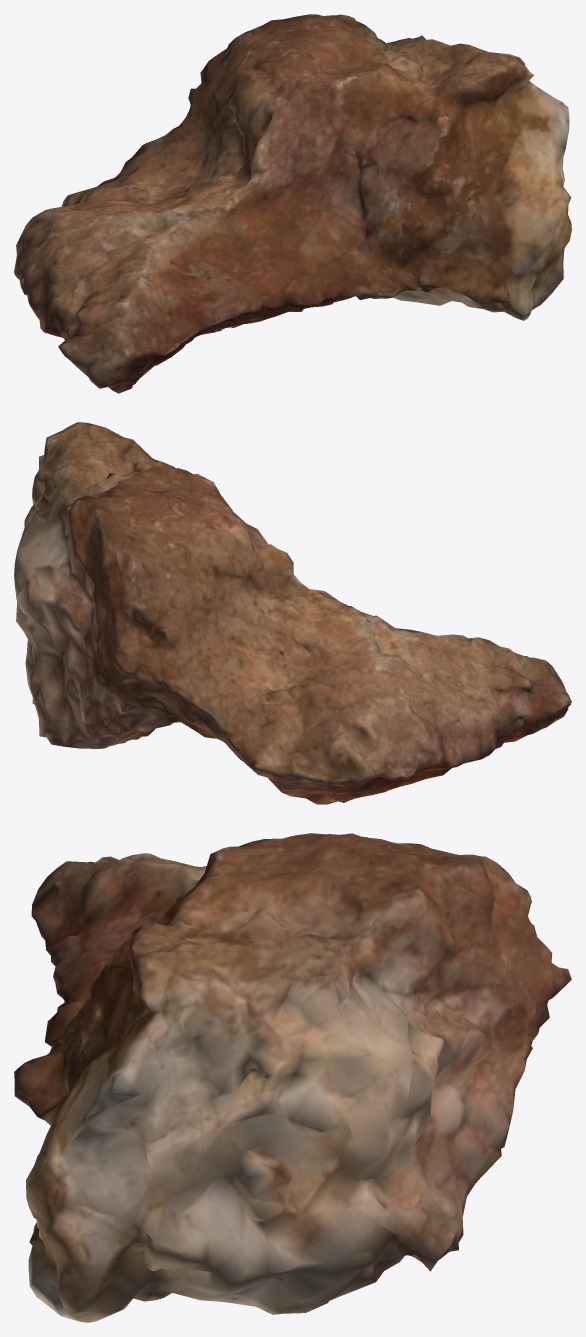
Rendered from stone_01.glb.
The picture shows the model from 3 angles, top to bottom: view 1: azimuth 30°, elevation 25°; view 2: azimuth 150°, elevation 25°; view 3: azimuth 270°, elevation 25°; orthographic projection. The views are drawn at different scales.
Visible parts, largest first — view 1: stone_01; view 2: stone_01; view 3: stone_01.
Boxes of the visible parts, x1,y1,x2,y2 form: stone_01: [14, 14, 571, 393]; stone_01: [14, 422, 571, 804]; stone_01: [14, 833, 571, 1322].
Bounding box in the file's own units: 0.1469 × 0.0718 × 0.089.
Materials: 1 (1 with a texture image).
